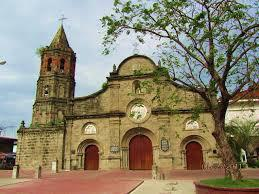barasoain_church_malolos_bulacan: (15, 13, 225, 169)
